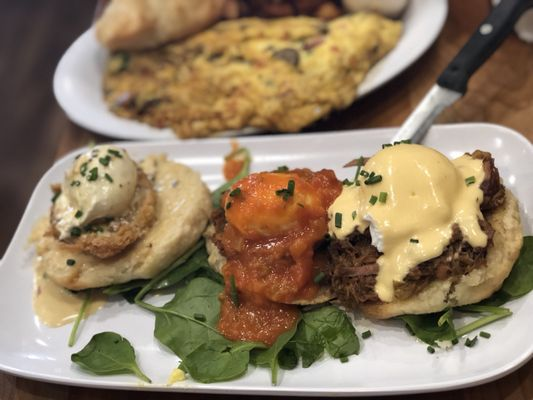sandwich: (387, 0, 533, 147)
soup: (27, 144, 216, 332)
